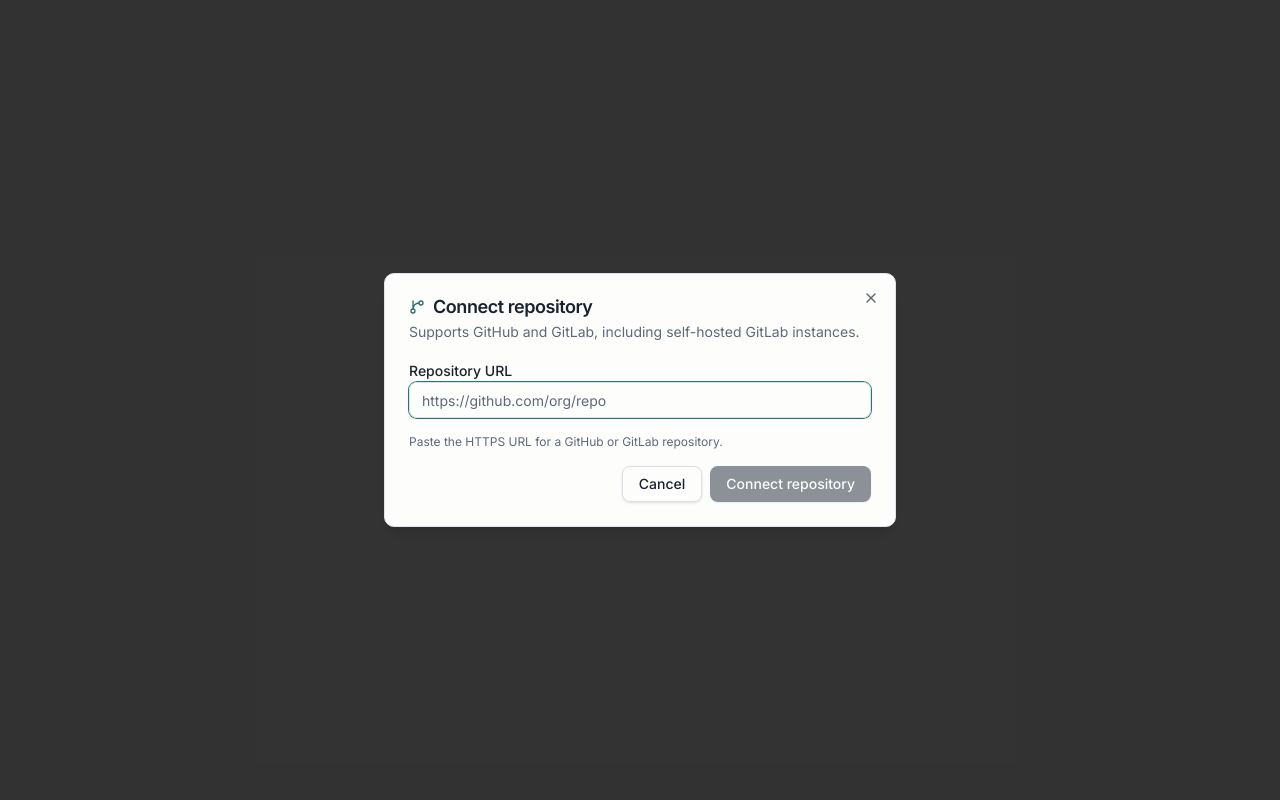
Test case: ConnectRepositoryDialog › uses the self-hosted GitLab token page and returns via Back
Type "https://gitlab.acme.io/team/private-service" into the field labelled "Repository URL" at (640, 400), box x1=409 y1=382 x2=871 y2=418
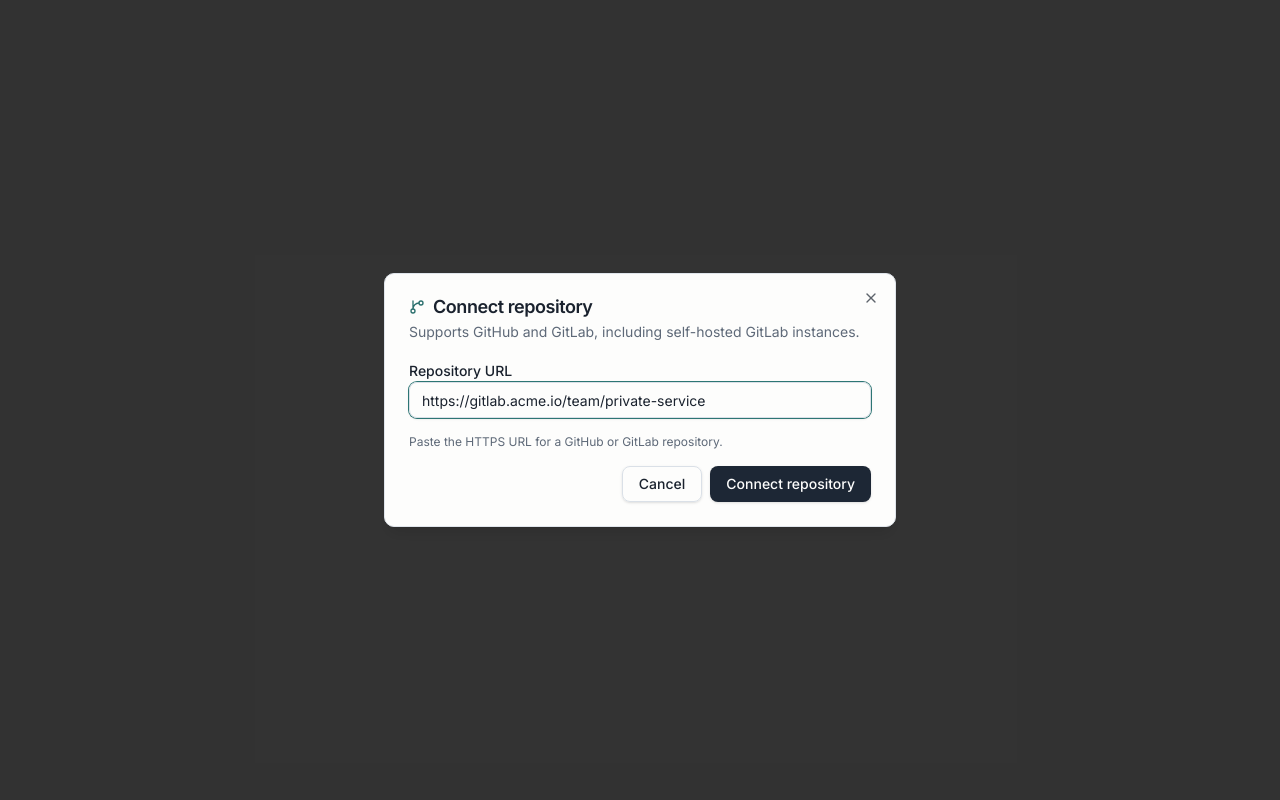
Click the button "Connect repository" at (791, 484), box x1=710 y1=466 x2=871 y2=502
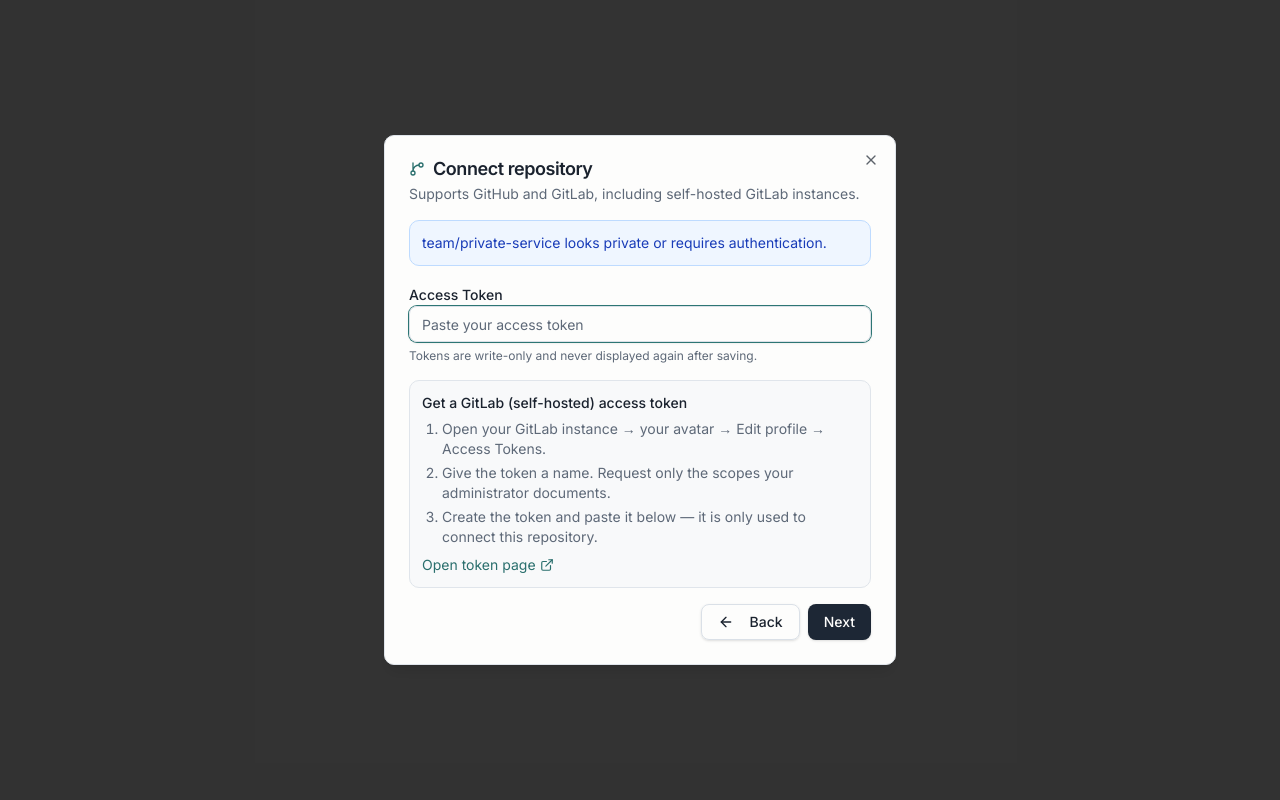
Result: the text "Get a GitLab (self-hosted) access token" is shown at x1=422 y1=394 x2=687 y2=411
Click the button "Back" at (750, 622), box x1=701 y1=604 x2=800 y2=640
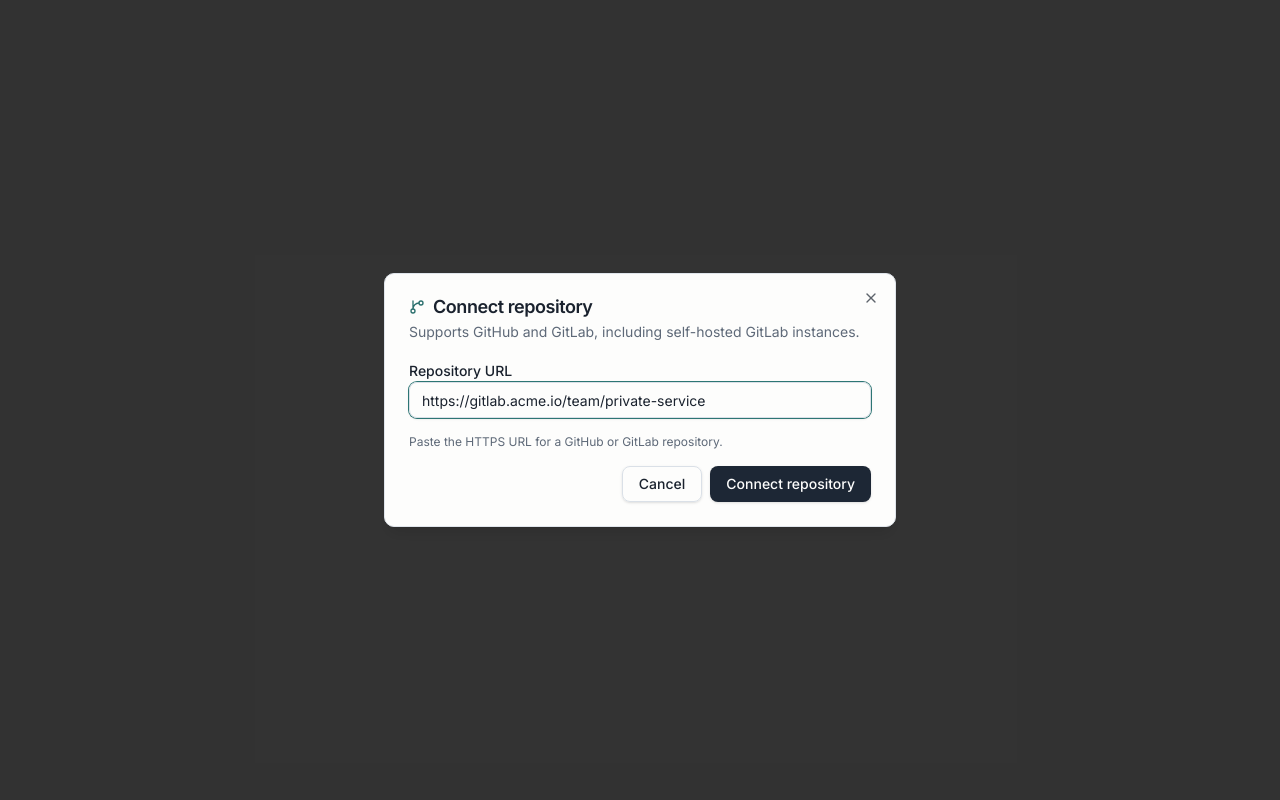
Result: the field labelled "Repository URL" is shown at x1=409 y1=382 x2=871 y2=418
Result: the label labelled "Access Token" is gone
